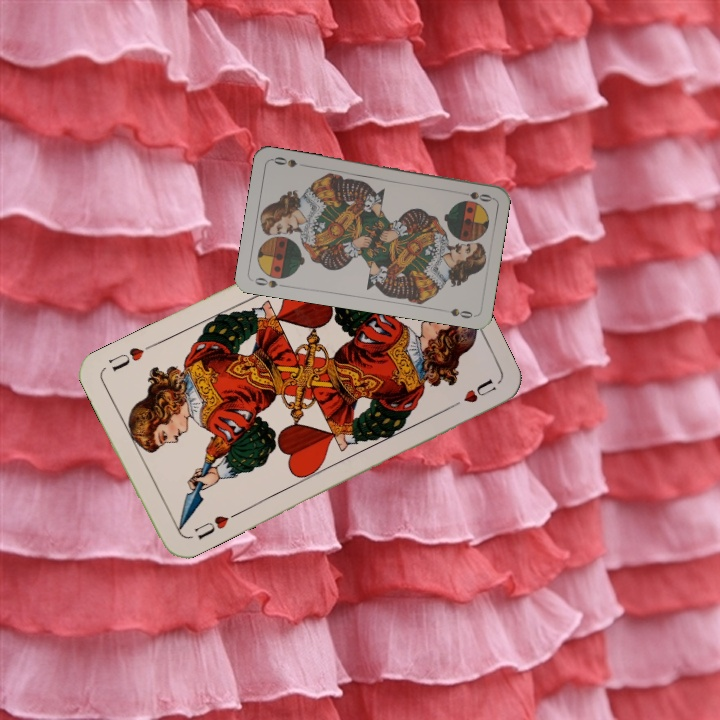HU: (190, 511, 232, 542)
SO: (454, 187, 494, 204), (250, 273, 290, 290)
